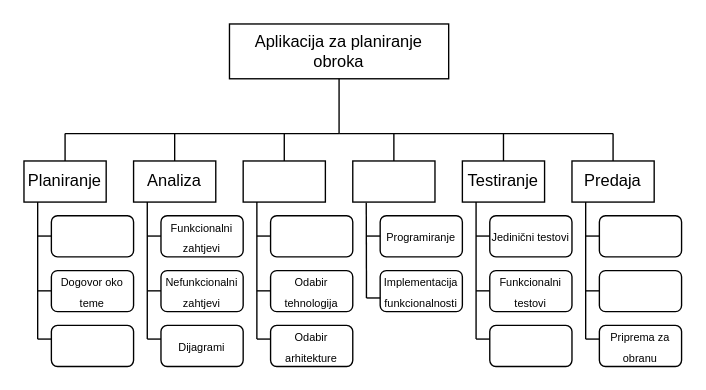
The diagram is 706 pixels wide and 390 high, and some of its shapes have lost their labels. Here are the shapes that lost their labels. From the top down, the centre of each, then its label:
At point 283,181: "Oblikovanje sustava".
At point 393,181: "Razvoj aplikacije".
At point 92,235: "Prvi sastanak s mentorom".
At point 311,235: "Određivanje dizajna sustava".
At point 640,235: "Pisanje dokumentacije".
At point 640,290: "Predaja rada".
At point 92,345: "Pravljenje vremenskog plana".
At point 530,345: "Ispravljanje pogrešaka".
